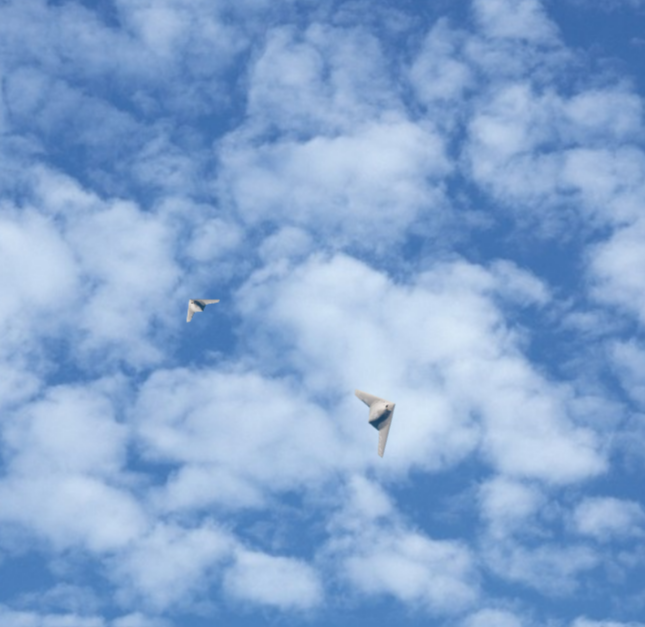military drone: (353, 388, 395, 457), (186, 298, 219, 322)
